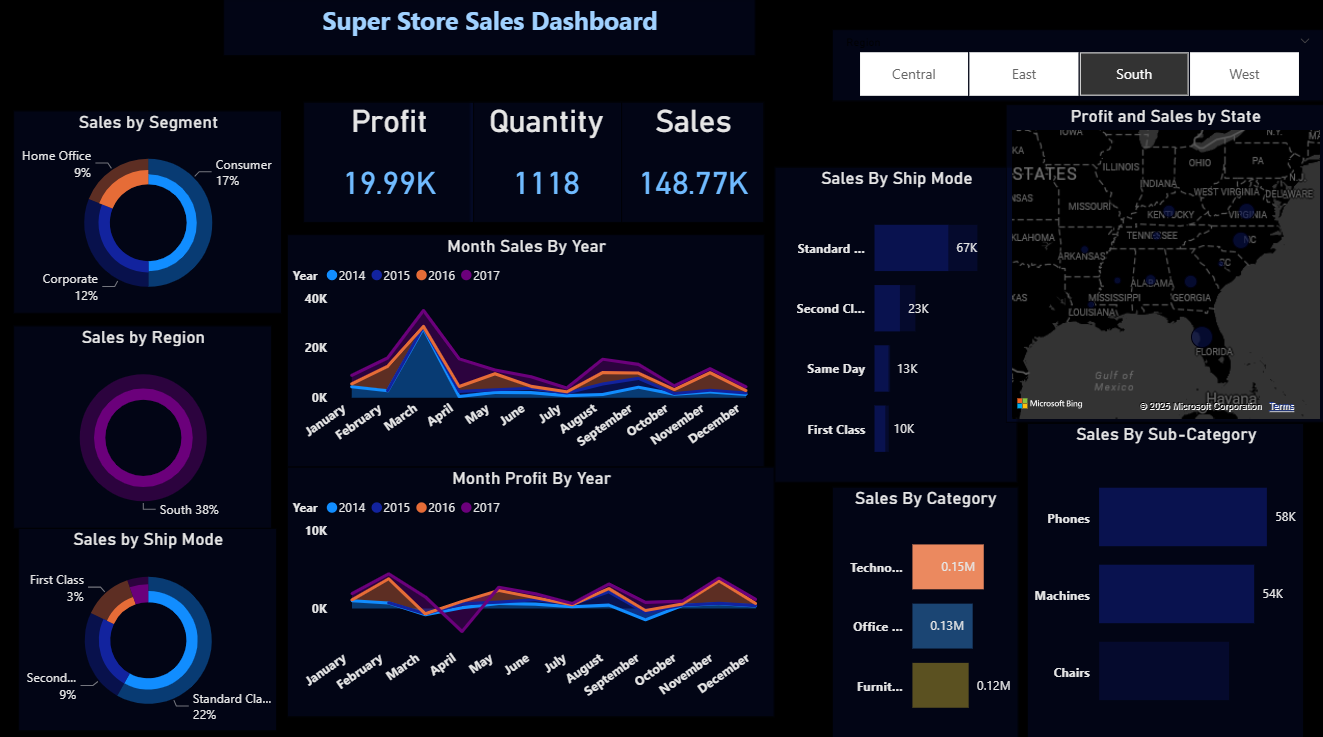

The dashboard page shown, as its layout file describes it:
{"tool":"powerbi","page":{"name":"Page 1","canvas":[1280,720],"ordinal":0},"visuals":[{"type":"clusteredBarChart","title":"Sales By Category","fields":{"Category":["Sample - Superstore.Category"],"Y":["Sum(Sample - Superstore.Sales)"]},"box":[805.5,472,179.8,242.9],"z":0},{"type":"clusteredBarChart","title":"Sales By Sub-Category","fields":{"Category":["Sample - Superstore.Sub-Category"],"Y":["Sum(Sample - Superstore.Sales)"]},"box":[993.5,410.3,267.6,304.6],"z":1000},{"type":"clusteredBarChart","title":"Sales By Ship Mode","fields":{"Category":["Sample - Superstore.Ship Mode"],"Y":["Sum(Sample - Superstore.Sales)"]},"box":[731,167,234,305],"z":2000},{"type":"stackedAreaChart","title":"Month Sales By Year","fields":{"Y":["Sum(Sample - Superstore.Sales)"],"Category":["Sample - Superstore.Order Date.Variation.Date Hierarchy.Month","Sample - Superstore.Order Date.Variation.Date Hierarchy.Day"],"Series":["Sample - Superstore.Order Date.Variation.Date Hierarchy.Year"]},"box":[279.9,227.8,461.1,225],"z":3000},{"type":"stackedAreaChart","title":"Month Profit By Year","fields":{"Category":["Sample - Superstore.Order Date.Variation.Date Hierarchy.Month","Sample - Superstore.Order Date.Variation.Date Hierarchy.Day"],"Series":["Sample - Superstore.Order Date.Variation.Date Hierarchy.Year"],"Y":["Sum(Sample - Superstore.Profit)"]},"box":[279.9,452.8,470.7,241.5],"z":4000},{"type":"map","title":"Profit and Sales by State","fields":{"Category":["Sample - Superstore.State"],"Size":["Sum(Sample - Superstore.Sales)"]},"box":[965,107,307,307],"z":5000},{"type":"donutChart","title":"Sales by Segment","fields":{"Category":["Sample - Superstore.Segment"],"Y":["Sum(Sample - Superstore.Sales)"]},"box":[15.1,108.4,259.3,196.2],"z":6000},{"type":"donutChart","title":"Sales by Region","fields":{"Category":["Sample - Superstore.Region"],"Y":["Sum(Sample - Superstore.Sales)"]},"box":[15.1,315.6,249.7,196.2],"z":7000},{"type":"donutChart","title":"Sales by Ship Mode","fields":{"Category":["Sample - Superstore.Ship Mode"],"Y":["Sum(Sample - Superstore.Sales)"]},"box":[20.6,511.8,249.7,196.2],"z":8000},{"type":"slicer","fields":{"Values":["Sample - Superstore.Region"]},"box":[805.5,30.2,474.8,70],"z":9000},{"type":"textbox","box":[218,0,513,75],"z":10000},{"type":"card","title":"Sales","fields":{"Values":["Sum(Sample - Superstore.Sales)"]},"box":[602.4,100.2,138.6,116.6],"z":11000},{"type":"card","title":"Quantity","fields":{"Values":["Sum(Sample - Superstore.Quantity)"]},"box":[455.6,100.2,146.8,116.6],"z":12000},{"type":"card","title":"Profit","fields":{"Values":["Sum(Sample - Superstore.Profit)"]},"box":[295,100.2,164.7,116.6],"z":13000}]}

Visuals, with their boxes in screenshot pixels (x1, y1, x2, y2), scaled from the page's 1280x720 canvas onto the 1323x737 screenshot:
"Sales By Category" clusteredBarChart: Rect(833, 483, 1018, 732)
"Sales By Sub-Category" clusteredBarChart: Rect(1027, 420, 1303, 732)
"Sales By Ship Mode" clusteredBarChart: Rect(756, 171, 997, 483)
"Month Sales By Year" stackedAreaChart: Rect(289, 233, 766, 463)
"Month Profit By Year" stackedAreaChart: Rect(289, 463, 776, 711)
"Profit and Sales by State" map: Rect(997, 110, 1315, 424)
"Sales by Segment" donutChart: Rect(16, 111, 284, 312)
"Sales by Region" donutChart: Rect(16, 323, 274, 524)
"Sales by Ship Mode" donutChart: Rect(21, 524, 279, 725)
slicer - Sample - Superstore.Region: Rect(833, 31, 1322, 103)
textbox: Rect(225, 0, 756, 77)
"Sales" card: Rect(623, 103, 766, 222)
"Quantity" card: Rect(471, 103, 623, 222)
"Profit" card: Rect(305, 103, 475, 222)
